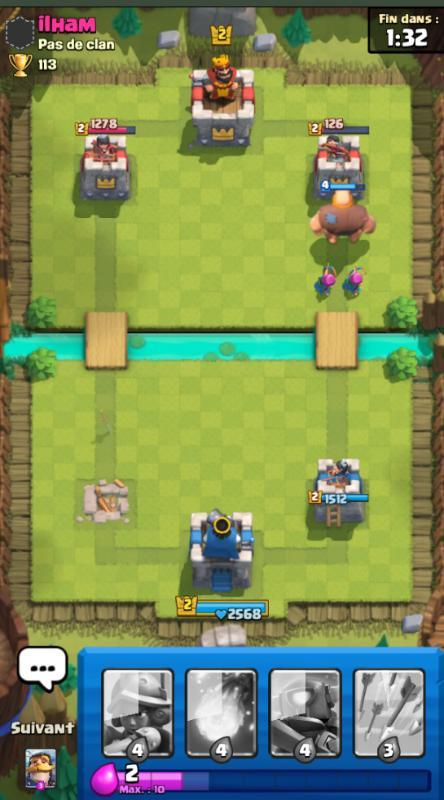player_archers: (338, 259, 369, 301), (310, 259, 340, 300)
player_giant: (304, 185, 379, 245)
